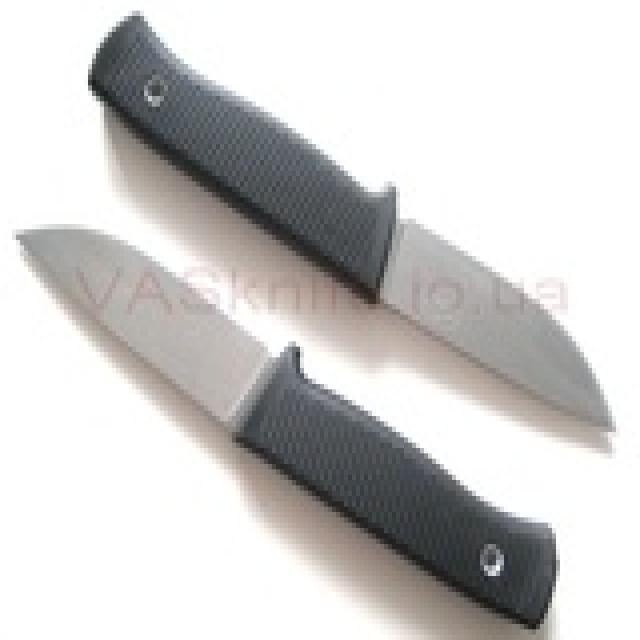Knife: (24, 18, 614, 627)
